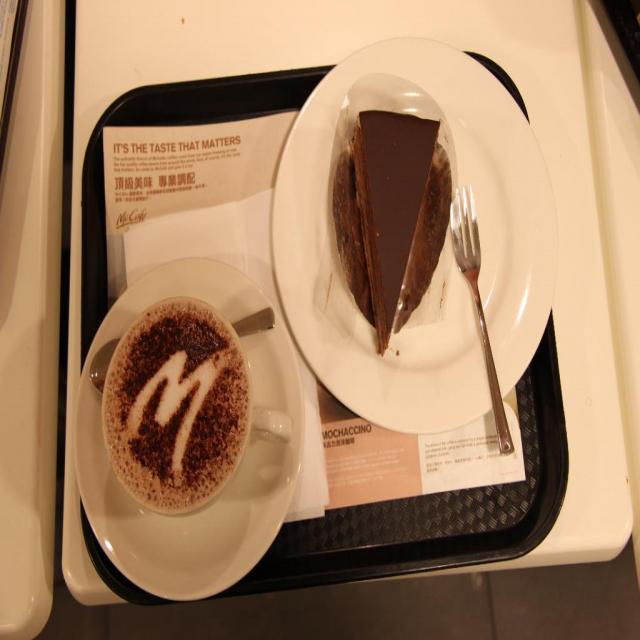Coffee: (101, 298, 253, 511)
